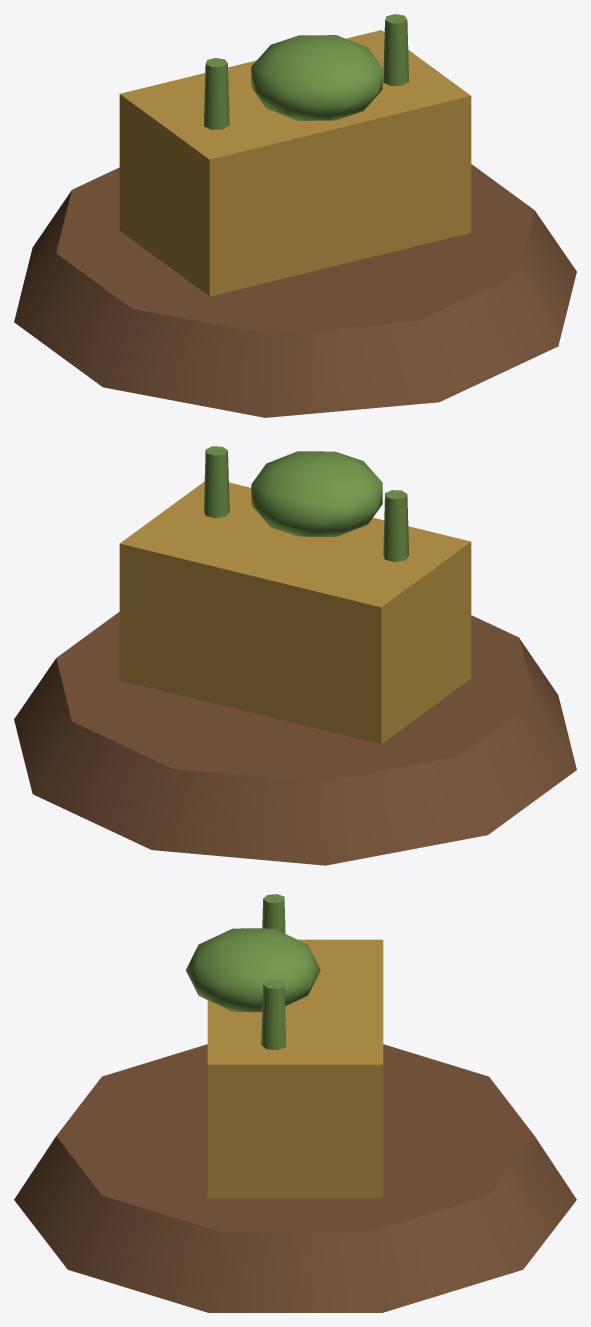
File: sanctuary.glb
The picture shows the model from 3 angles, top to bottom: view 1: azimuth 30°, elevation 25°; view 2: azimuth 150°, elevation 25°; view 3: azimuth 270°, elevation 25°; orthographic projection. The views are drawn at different scales.
Visible parts, largest first — view 1: base, altar, emblem, candle_-1, candle_1; view 2: base, altar, emblem, candle_1, candle_-1; view 3: base, altar, emblem, candle_1, candle_-1.
Boxes of the visible parts, x1,y1,x2,y2 form: base: (14,164,576,417); altar: (119,30,471,296); emblem: (251,35,382,120); candle_-1: (204,58,229,129); candle_1: (383,14,409,85); base: (14,612,576,865); altar: (119,481,471,744); emblem: (251,451,382,536); candle_1: (204,446,229,518); candle_-1: (383,490,409,561); base: (14,1044,576,1312); altar: (207,939,383,1198); emblem: (186,928,320,1012); candle_1: (261,979,285,1050); candle_-1: (262,894,285,933).
Size of what is drawn, in the model's own units: 3.8 by 2.06 by 4.
